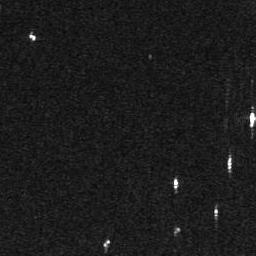ship: (249, 111, 256, 130), (226, 156, 232, 172), (28, 33, 38, 41), (174, 177, 178, 191)
